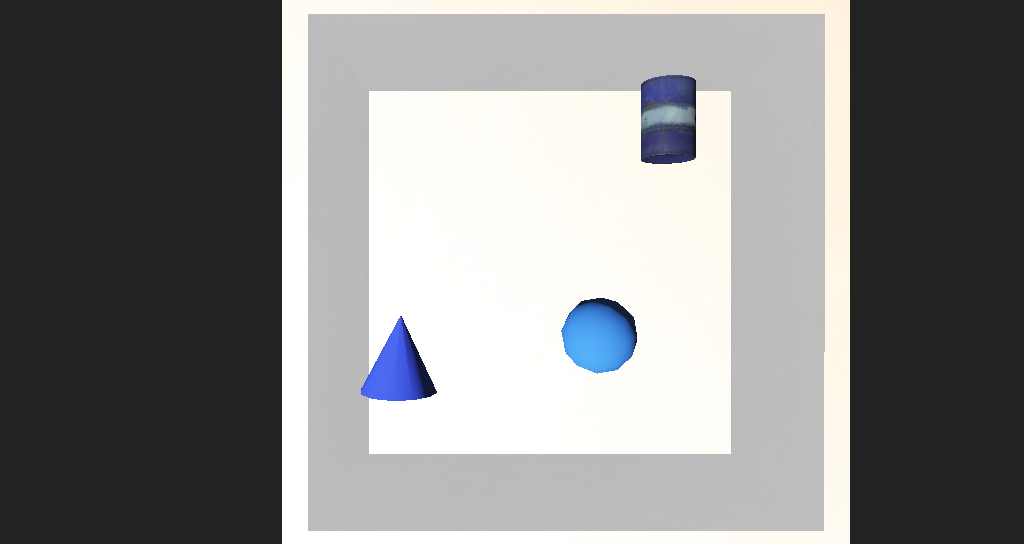cone: (583, 155, 630, 208)
cylinder: (344, 293, 411, 346)
sphere: (515, 284, 576, 327)
